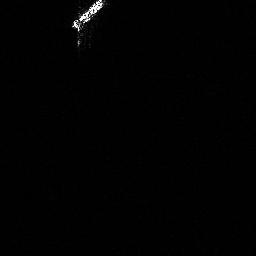ship: (68, 1, 108, 35)
